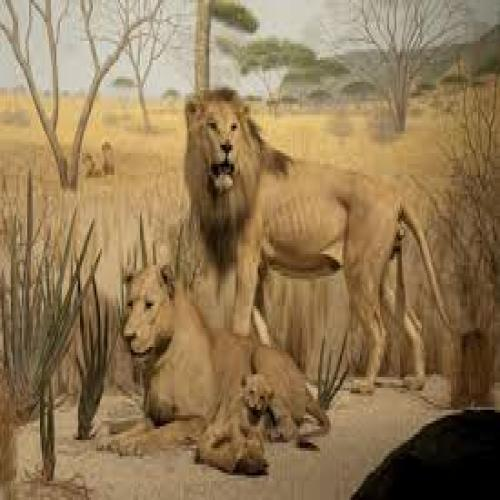lion-endangered: (180, 89, 493, 406), (94, 258, 327, 456), (200, 372, 280, 468)
